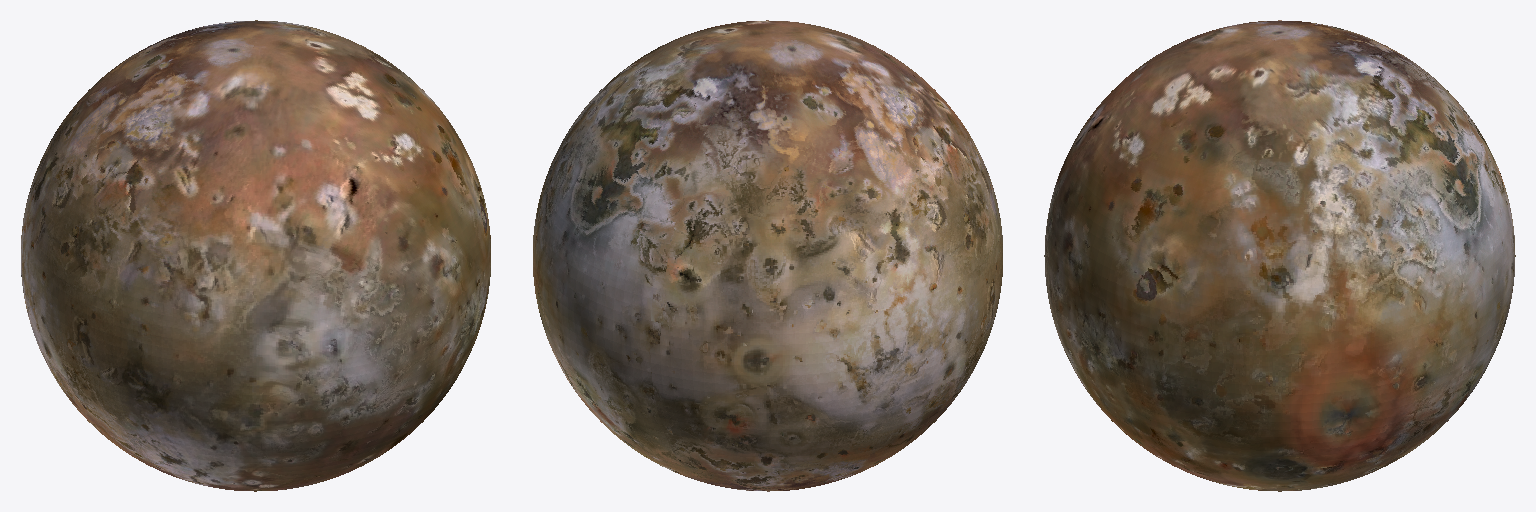
3 renders of one model, left to right at view 1: azimuth 30°, elevation 25°; view 2: azimuth 150°, elevation 25°; view 3: azimuth 270°, elevation 25°, orthographic.
Visible parts, largest first — view 1: earth_Sphere; view 2: earth_Sphere; view 3: earth_Sphere.
Boxes of the visible parts, box(x1,y1,x2,y2) form: earth_Sphere: box(21, 20, 490, 491); earth_Sphere: box(533, 20, 1002, 491); earth_Sphere: box(1044, 20, 1515, 491).
Size of the model in its own units: 2 by 2 by 2.
Materials: 1 (1 with a texture image).